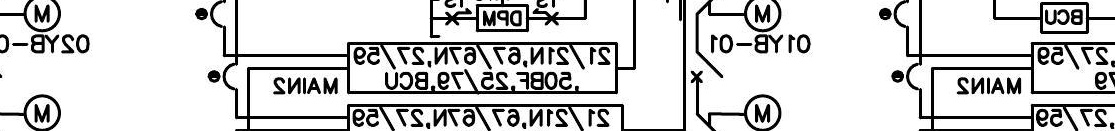115_breaker: (690, 51, 724, 83)
BCU: (1039, 1, 1090, 35)
DPM: (476, 4, 530, 32)
